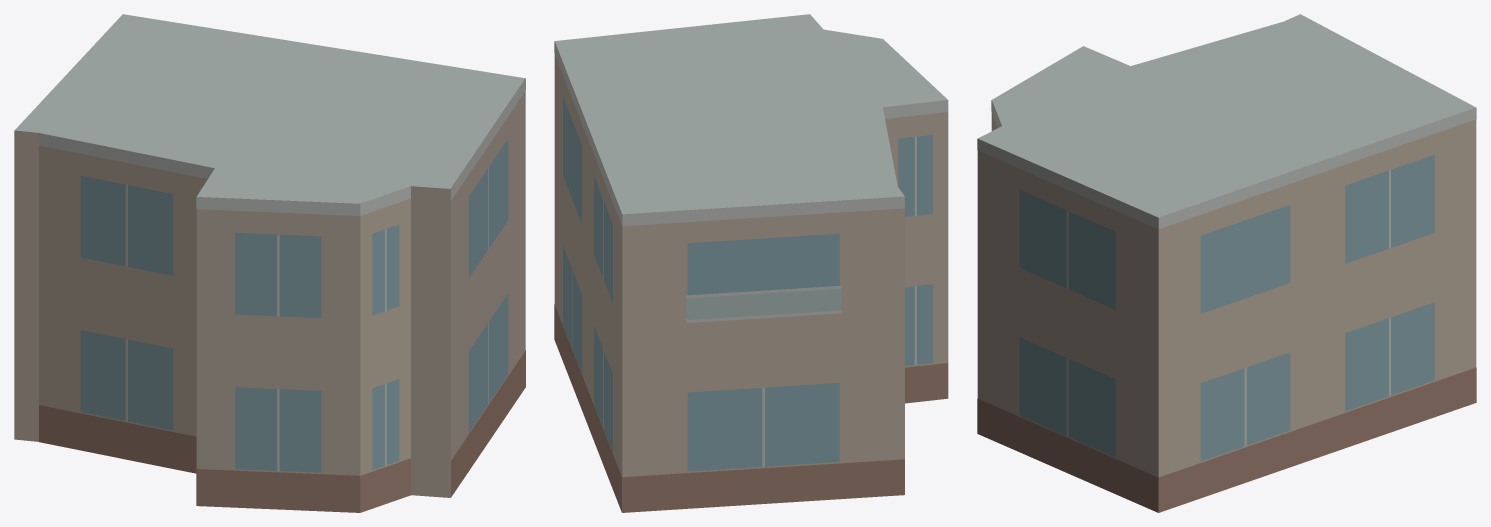
The model's file is survey-upis-32459730.glb.
3 renders of one model, left to right at view 1: azimuth 30°, elevation 25°; view 2: azimuth 150°, elevation 25°; view 3: azimuth 270°, elevation 25°, orthographic. The views are drawn at different scales.
Parts seen in each view (by area): view 1: survey-upis-32459730.tmp; view 2: survey-upis-32459730.tmp; view 3: survey-upis-32459730.tmp.
Boxes of the visible parts, x1,y1,x2,y2 form: survey-upis-32459730.tmp: (14,14,525,512); survey-upis-32459730.tmp: (554,14,948,512); survey-upis-32459730.tmp: (977,14,1476,512).
Bounding box in the file's own units: 9.03 × 6.1 × 9.35.
